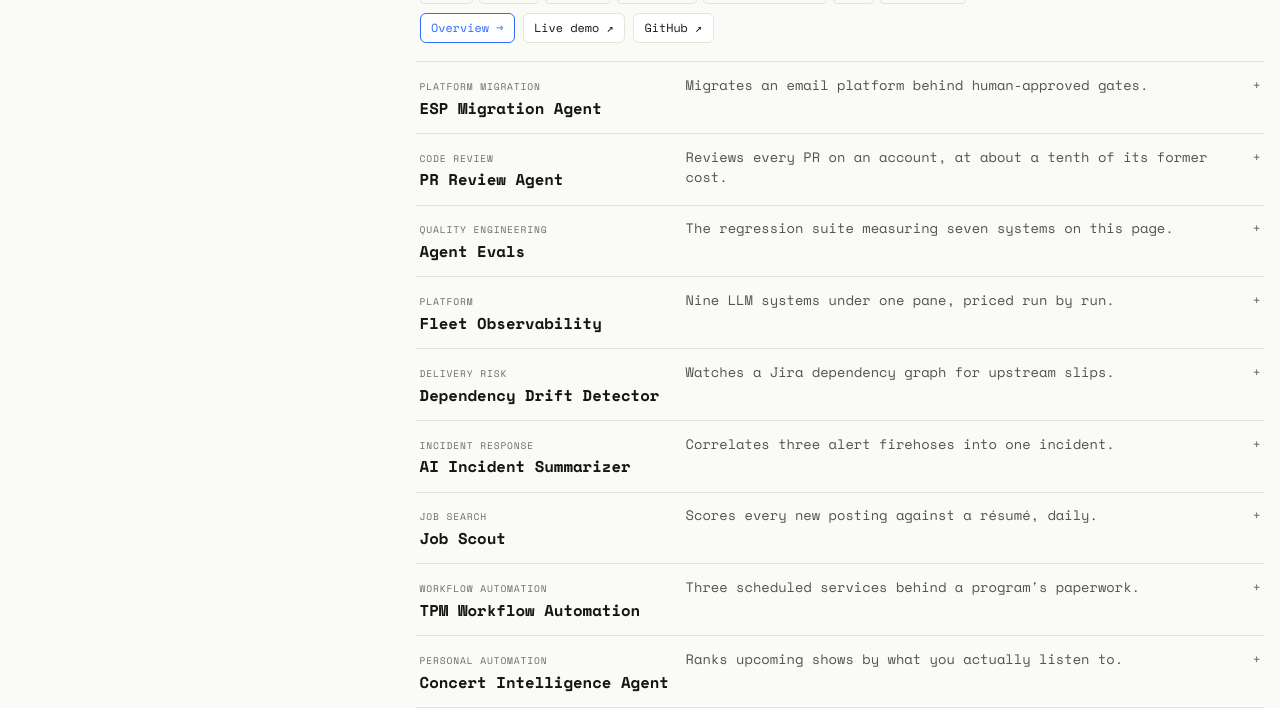
it: ProjectIndex › renders the Job Scout board with its matched and gap chips
(page scrolled)
What coordinates should you click on to do the following:
click the button "Job Scout"
I would click on:
 (840, 528)
Its box is left=416, top=493, right=1264, bottom=563.
(page scrolled)
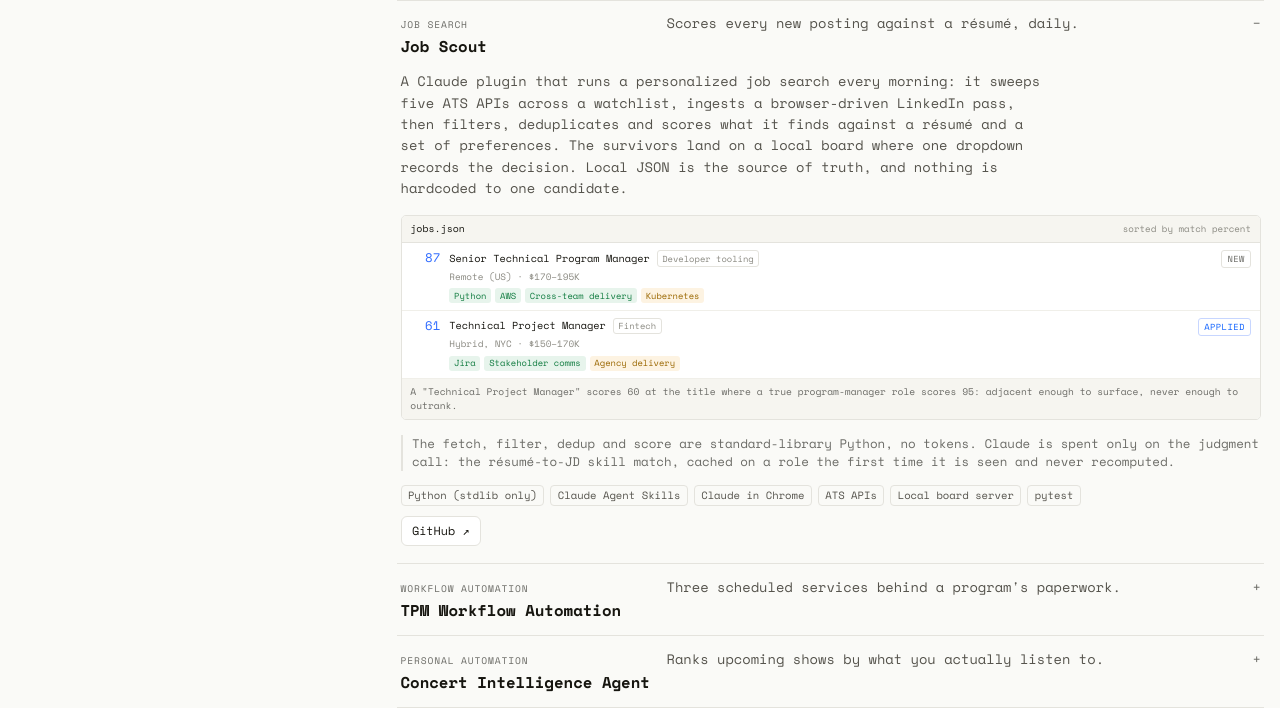
Now the text "87" is shown, box left=425, top=248, right=440, bottom=267
